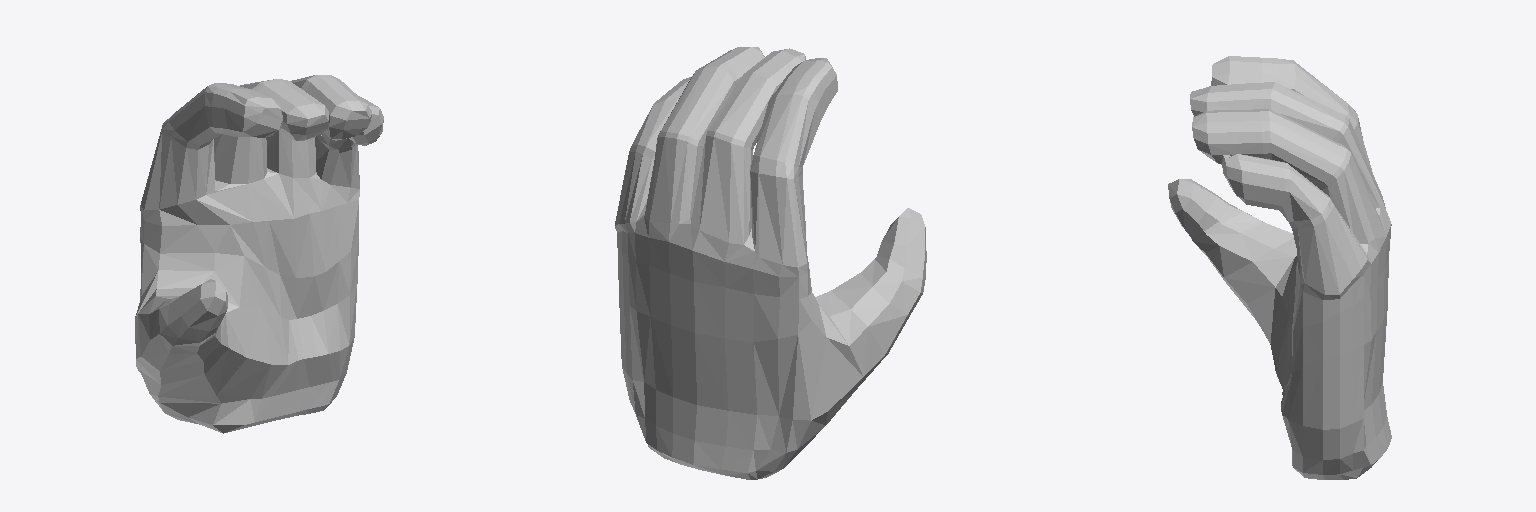
File: mao_c.obj
3 renders of one model, left to right at view 1: azimuth 30°, elevation 25°; view 2: azimuth 150°, elevation 25°; view 3: azimuth 270°, elevation 25°, orthographic.
Visible parts, largest first — view 1: objobjBox06; view 2: objobjBox06; view 3: objobjBox06.
Boxes of the visible parts, box(x1,y1,x2,y2) form: objobjBox06: box(135, 75, 383, 433); objobjBox06: box(615, 47, 926, 479); objobjBox06: box(1168, 56, 1391, 479).
Size of the model in its own units: 145 by 203 by 113.